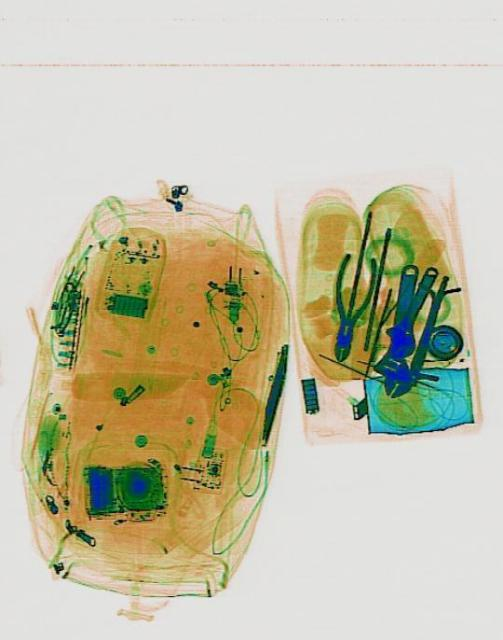Pliers: (316, 248, 380, 364)
Wrench: (366, 258, 430, 400), (377, 256, 445, 366)
